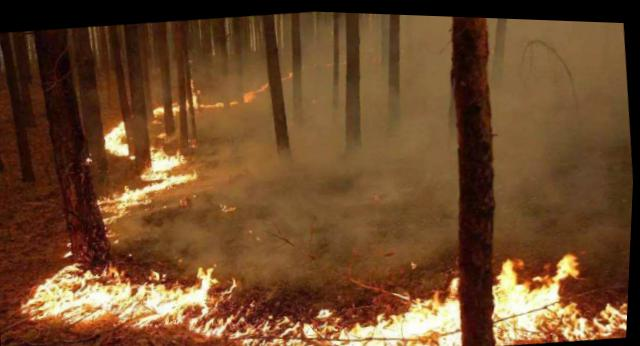fire: (19, 190, 633, 343), (79, 62, 319, 229)
